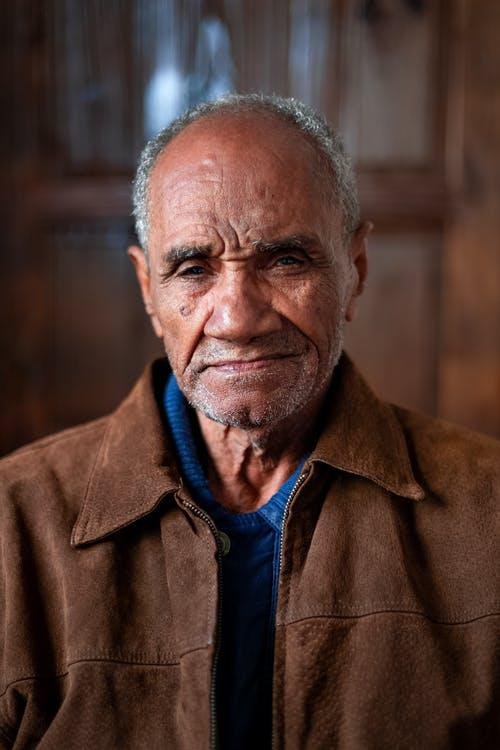Wrinkles: (168, 223, 212, 238), (228, 218, 245, 250), (214, 226, 226, 257), (227, 258, 249, 261)
